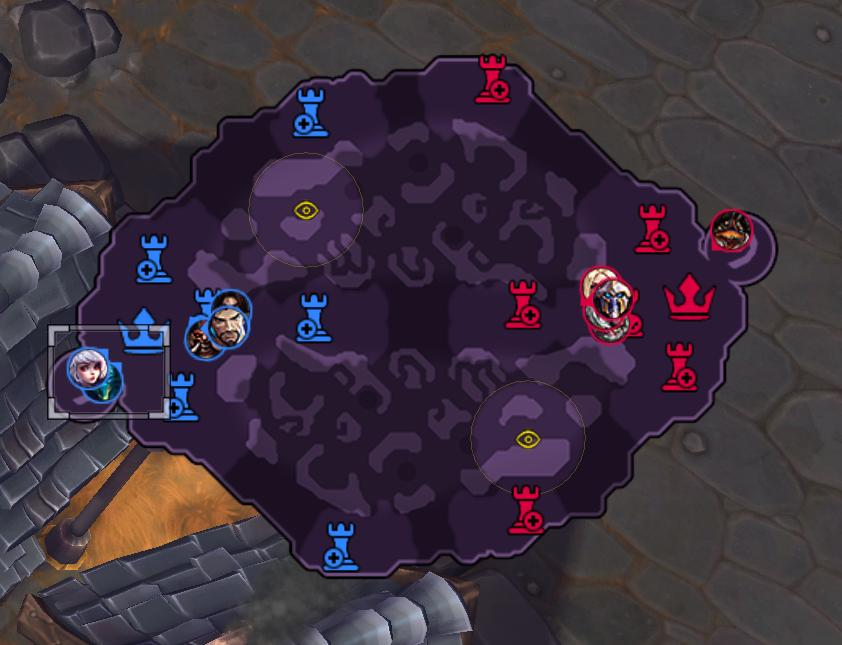blue nexus: (118, 305, 171, 354)
blue player: (205, 303, 249, 349), (67, 342, 111, 388), (83, 361, 127, 407), (183, 315, 225, 361)
blue tower: (134, 231, 173, 284), (291, 85, 329, 139), (321, 519, 359, 572), (295, 291, 332, 344), (166, 370, 200, 422)
red nexus: (661, 272, 715, 319)
red player: (708, 207, 752, 254), (577, 264, 622, 307), (592, 279, 638, 316), (590, 312, 635, 346)
red tower: (504, 277, 541, 330), (507, 484, 545, 535), (474, 53, 511, 105), (660, 341, 697, 392), (634, 202, 670, 254)
